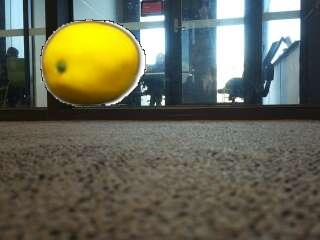lemon: (45, 22, 141, 104)
